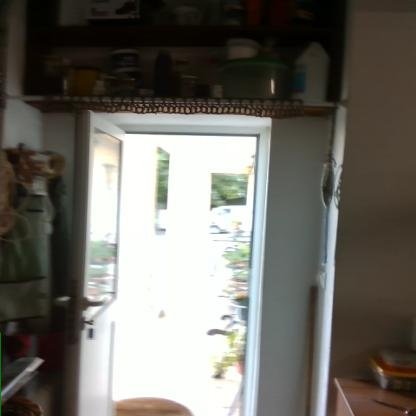open: (61, 100, 293, 415)
